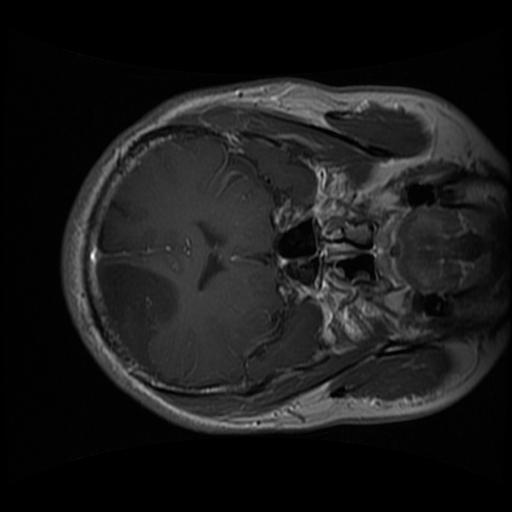glioma: (96, 256, 182, 369)
